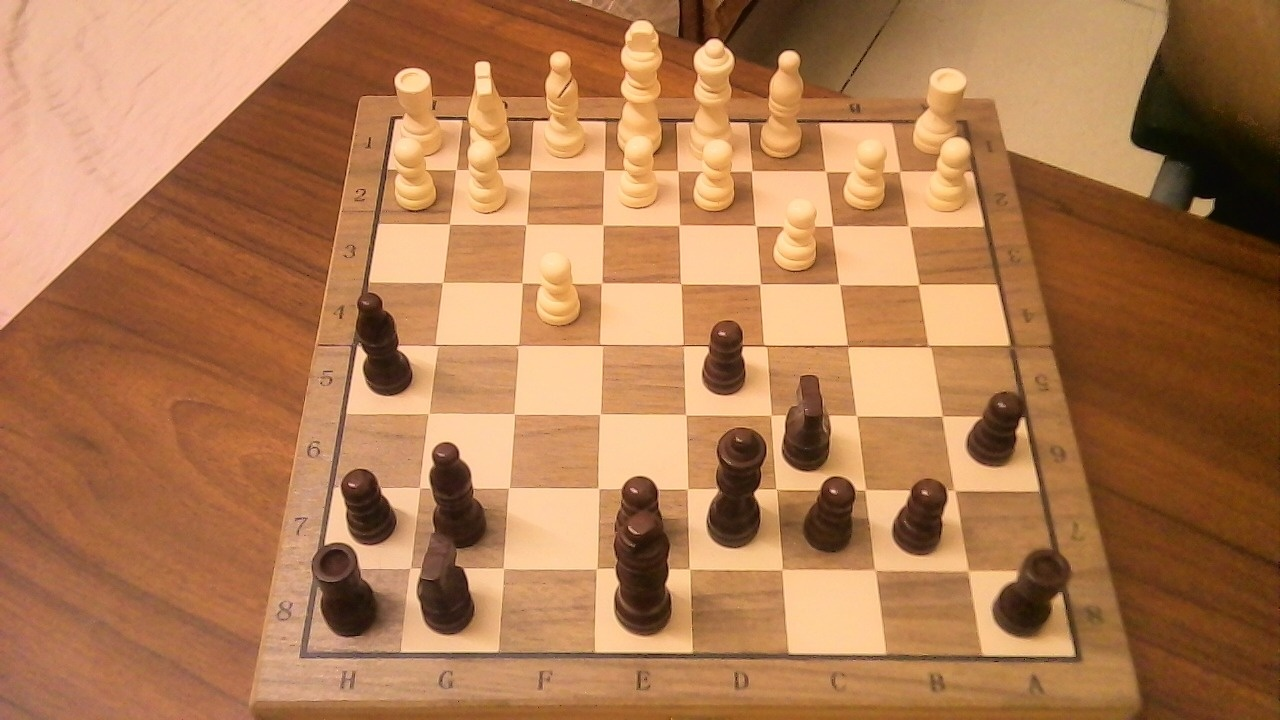B: (536, 40, 594, 163), (756, 39, 814, 162)
K: (610, 10, 673, 160)
N: (460, 50, 519, 162)
P: (918, 128, 980, 216), (527, 241, 588, 330), (766, 188, 827, 275), (836, 129, 897, 213), (610, 125, 667, 214), (686, 129, 743, 216), (385, 128, 443, 213), (458, 130, 514, 218)
Q: (682, 28, 745, 167)
R: (905, 57, 974, 160), (390, 58, 450, 160)
b: (421, 429, 497, 550), (351, 281, 423, 400)
k: (603, 504, 686, 641)
n: (410, 522, 487, 638), (779, 361, 844, 473)
p: (605, 464, 676, 564), (887, 468, 961, 561), (961, 379, 1035, 470), (332, 457, 406, 547), (796, 464, 866, 555), (694, 308, 757, 400)
q: (699, 413, 780, 552)
r: (987, 536, 1081, 641), (309, 531, 392, 639)
